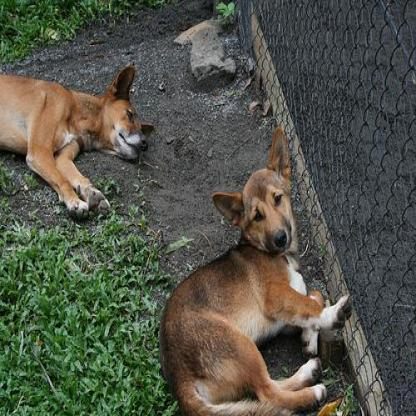dingo: (158, 123, 356, 414), (0, 62, 151, 218)
